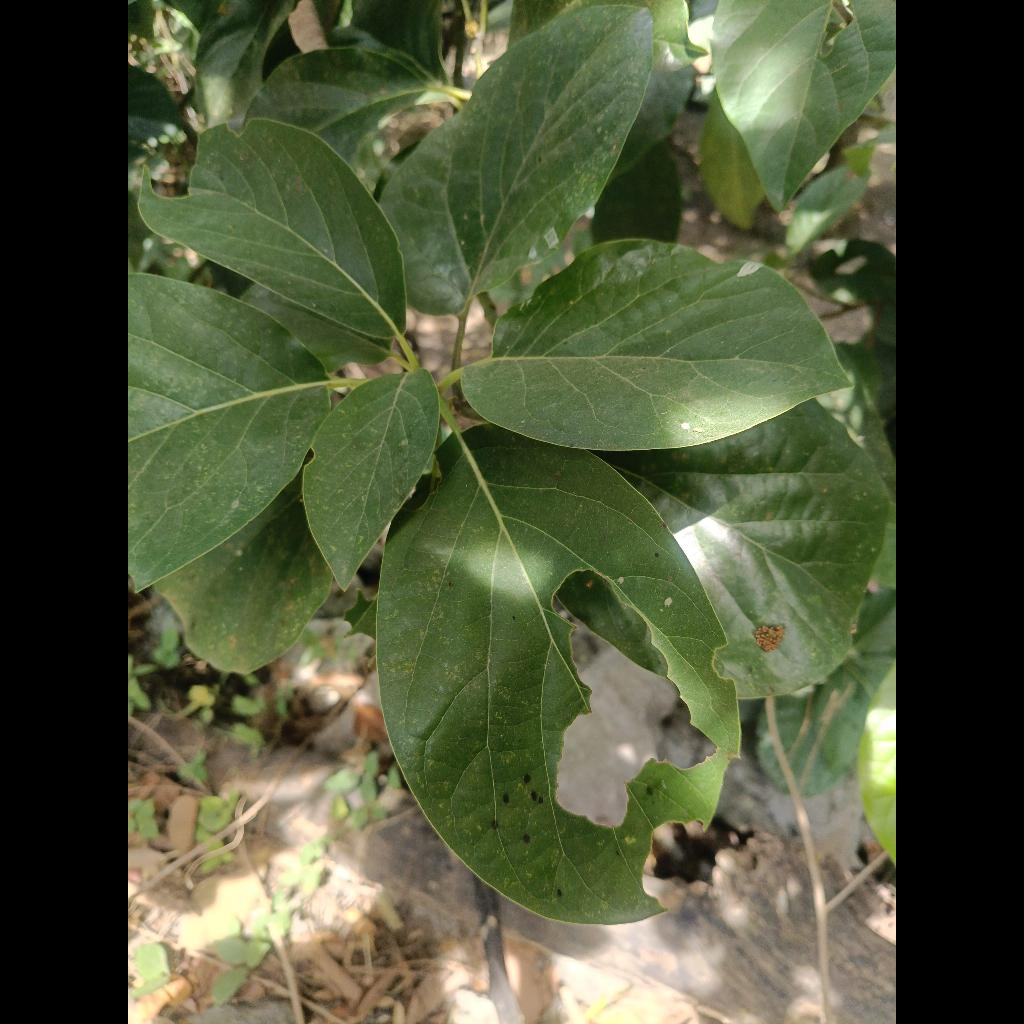plaga: (375, 426, 739, 924)
